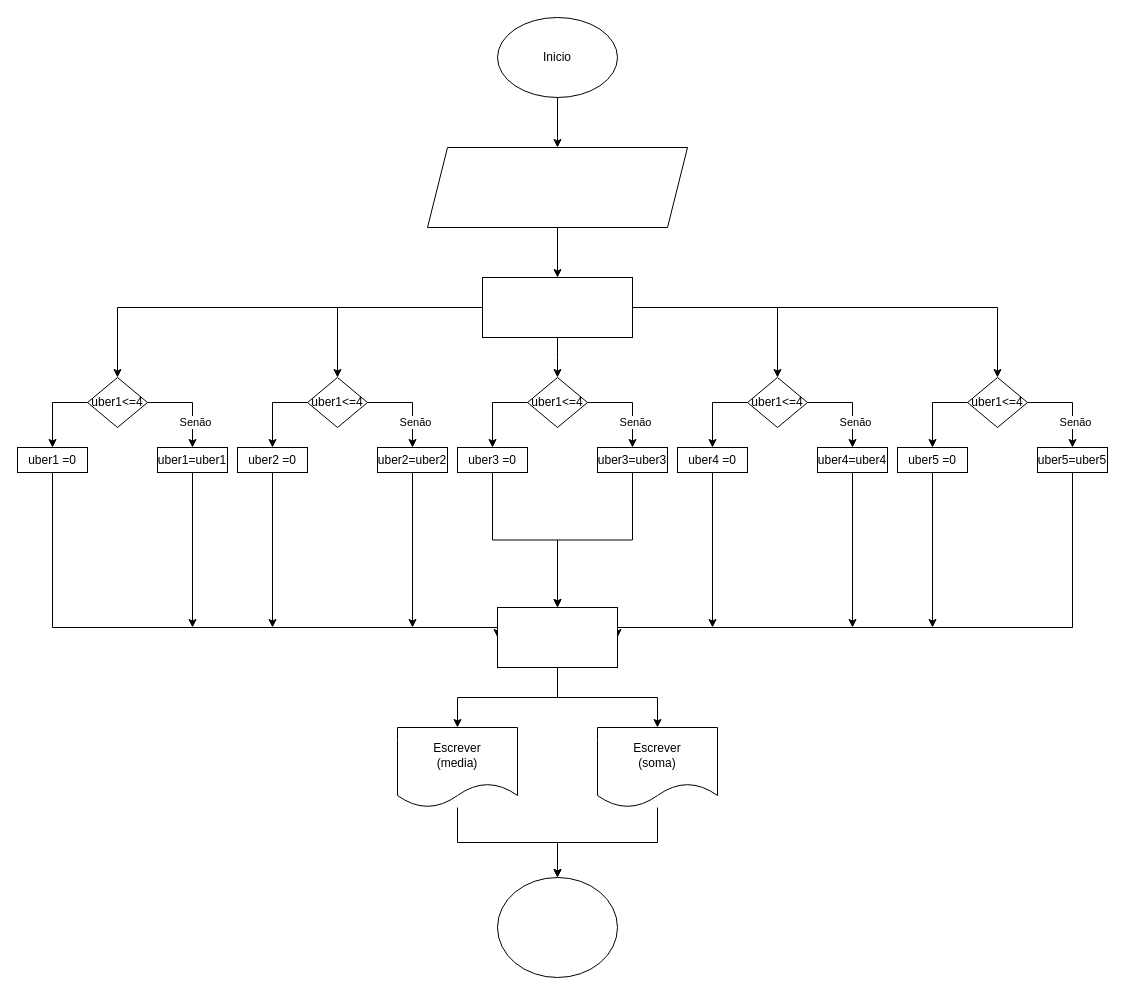
Image size: 1125x995. Some labels were removed from this diagram. Here are the shapes that lost their labels. From the top down, the box of each, then its label:
(426, 146, 688, 228): Ler (uber1, uber2, uber3, uber4, uber5)
(482, 276, 632, 338): media = (uber1, uber2, uber3, uber4, uber5)/5
(496, 606, 618, 668): Soma = (uber1, uber2, uber3, uber4, uber5)
(496, 876, 618, 978): Fim
